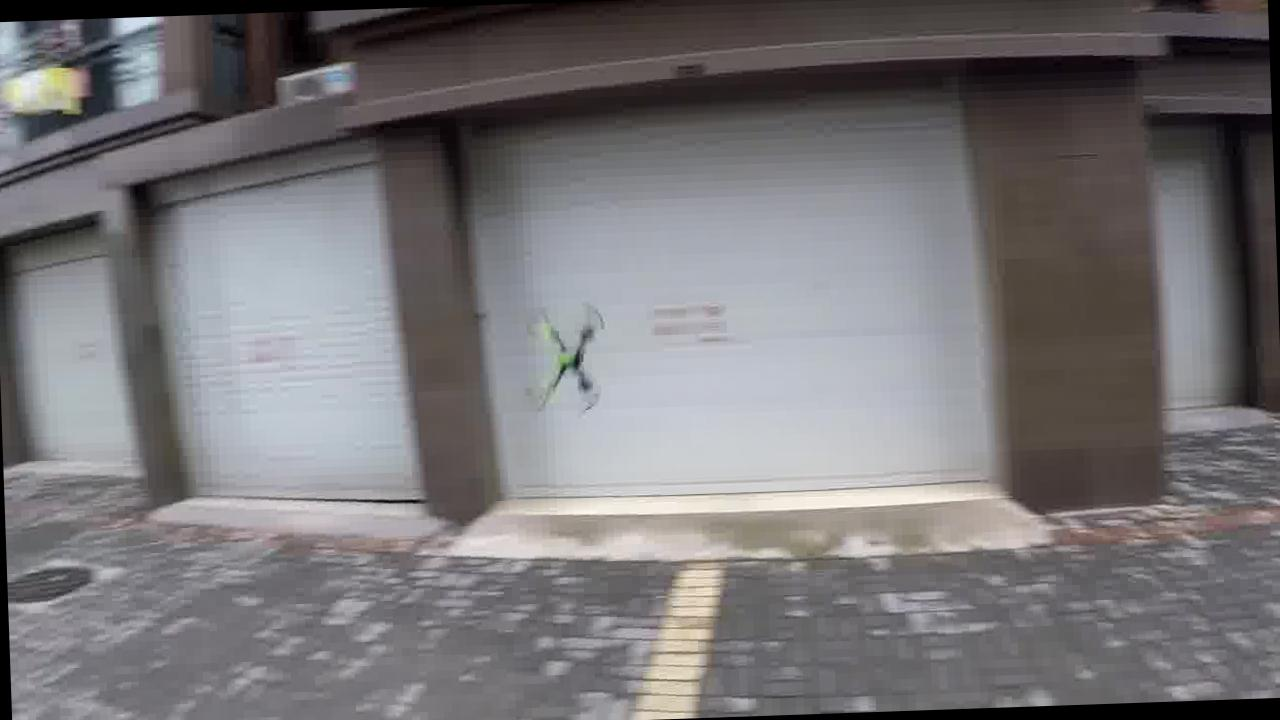drone: (504, 291, 610, 412)
